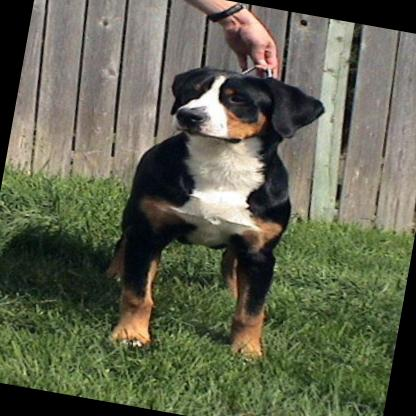Greater_Swiss_Mountain_dog: (95, 56, 328, 379)
